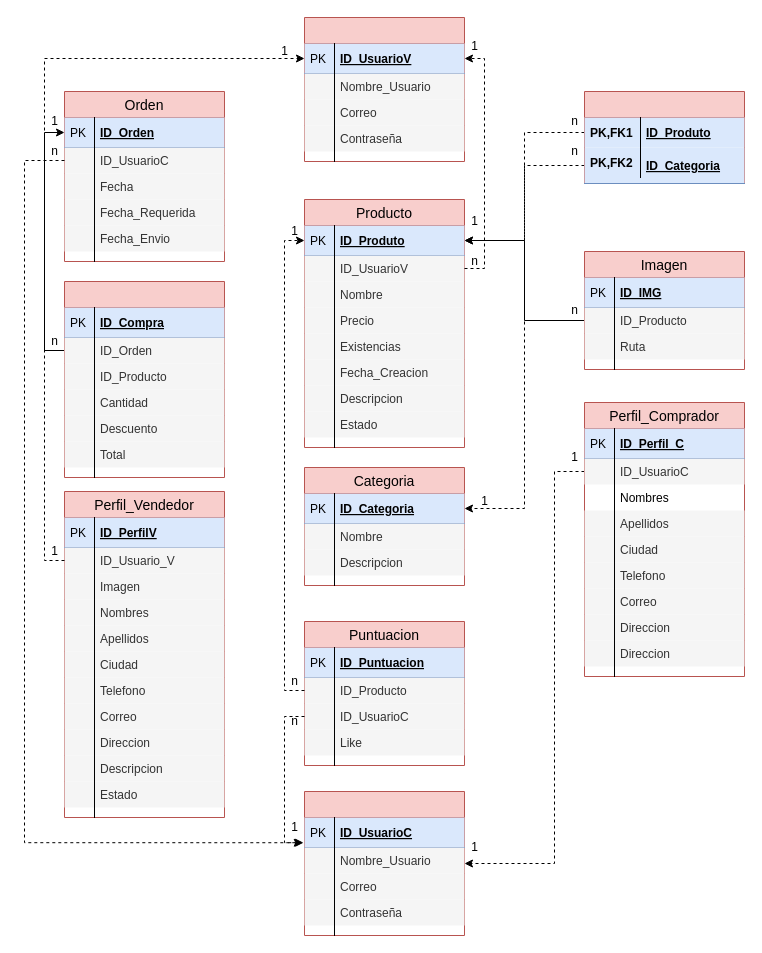
This 762x953 diagram has some shape labels left out. Each missing label, with the box of its shape:
Detalle_Orden: (64, 280, 224, 478)
Producto_Categoria: (584, 90, 744, 184)
Usuario_Comprador: (304, 790, 464, 936)
Usuario_Vendedor: (304, 16, 464, 162)
